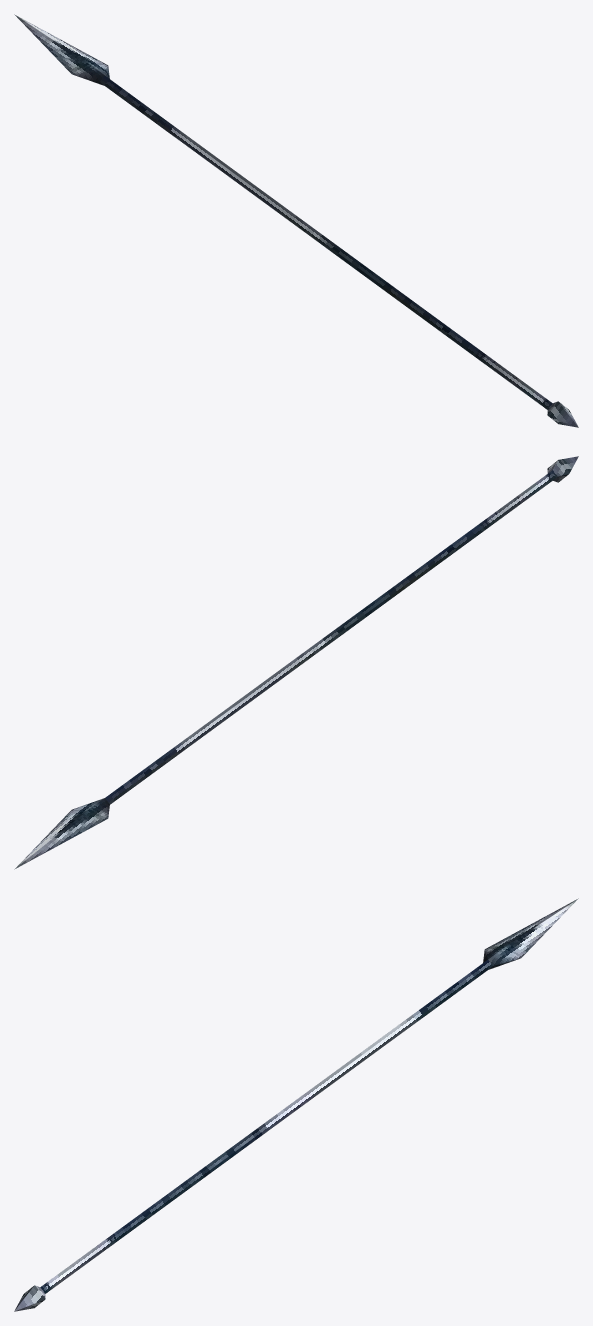
Rendered from spear___spears_of_sparta_spears_of_sparta5_ice.glb.
3 views of the same model, one above another, from view 1: azimuth 30°, elevation 25°; view 2: azimuth 150°, elevation 25°; view 3: azimuth 330°, elevation 25° (orthographic).
Bounding box in the file's own units: 0.1163 × 0.0696 × 3.11.
1 material, 1 textured.
